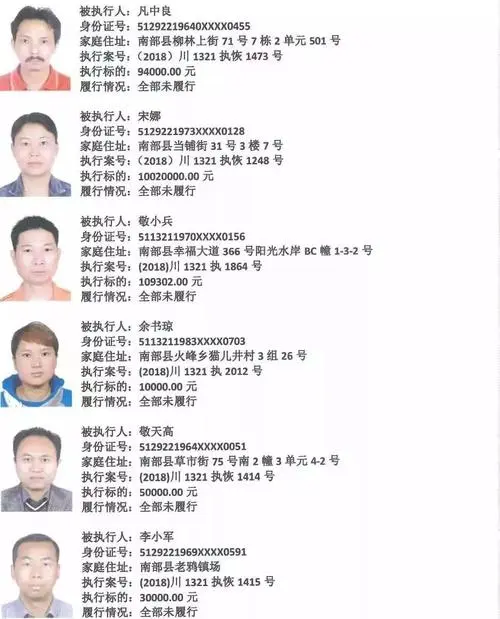normal: (11, 216, 62, 288), (11, 534, 64, 601), (12, 424, 59, 493), (9, 113, 58, 176), (12, 321, 58, 388), (12, 10, 61, 68)
